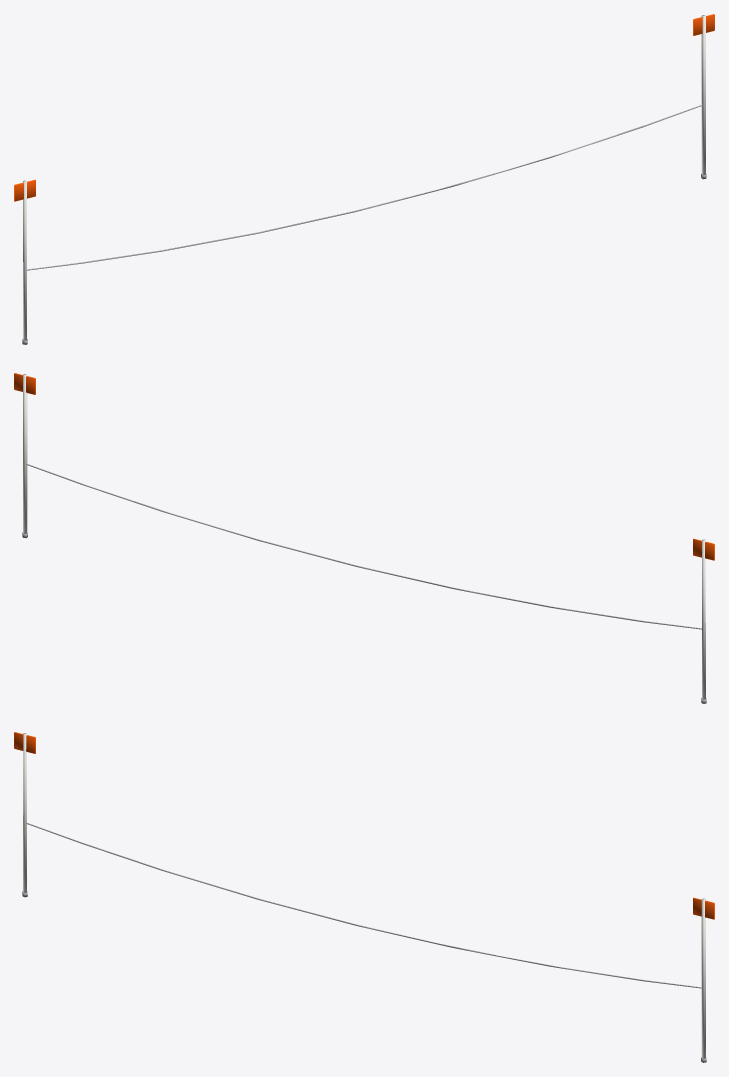
Rendered from chain_set_lod1.glb.
The picture shows the model from 3 angles, top to bottom: view 1: azimuth 30°, elevation 25°; view 2: azimuth 150°, elevation 25°; view 3: azimuth 330°, elevation 25°; orthographic projection.
Visible parts, largest first — view 1: chain_set_lod1; view 2: chain_set_lod1; view 3: chain_set_lod1.
Part boxes in pixels (<box>): chain_set_lod1: <box>14,14,714,344</box>; chain_set_lod1: <box>14,373,714,703</box>; chain_set_lod1: <box>14,732,714,1062</box>.
Size of the model in its own units: 9.49 by 2.1 by 0.0702.
